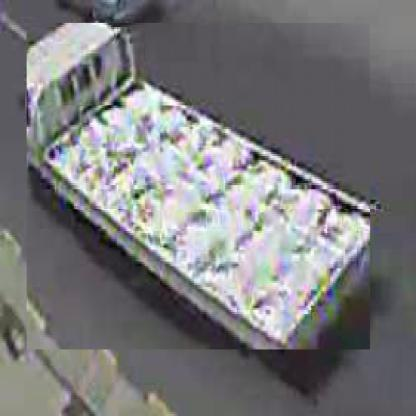truck: (28, 24, 373, 352)
